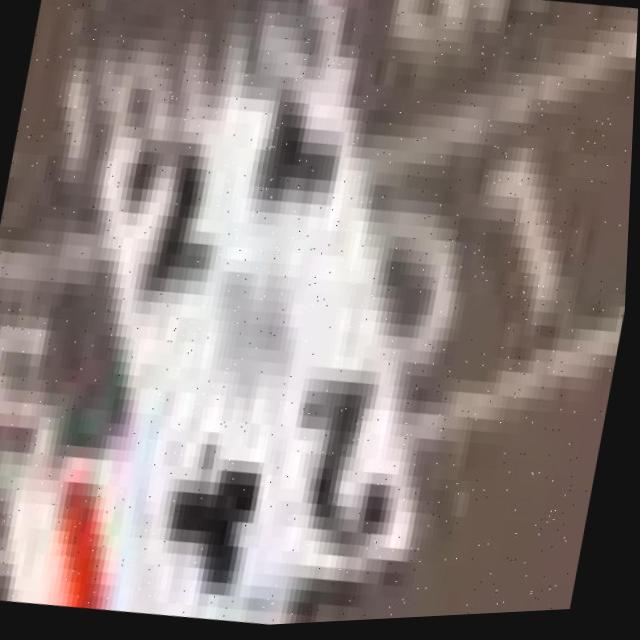Card-2: (108, 55, 419, 623)
